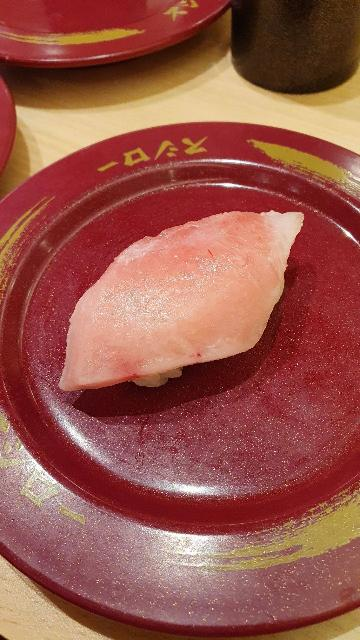janred: (11, 127, 360, 592), (0, 4, 239, 66), (0, 82, 23, 158)
